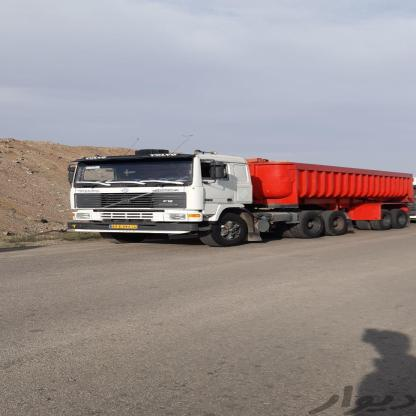Truck: (69, 137, 416, 268)
